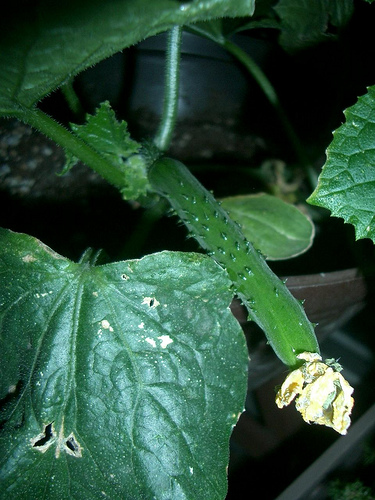cucumber: (127, 138, 361, 432)
